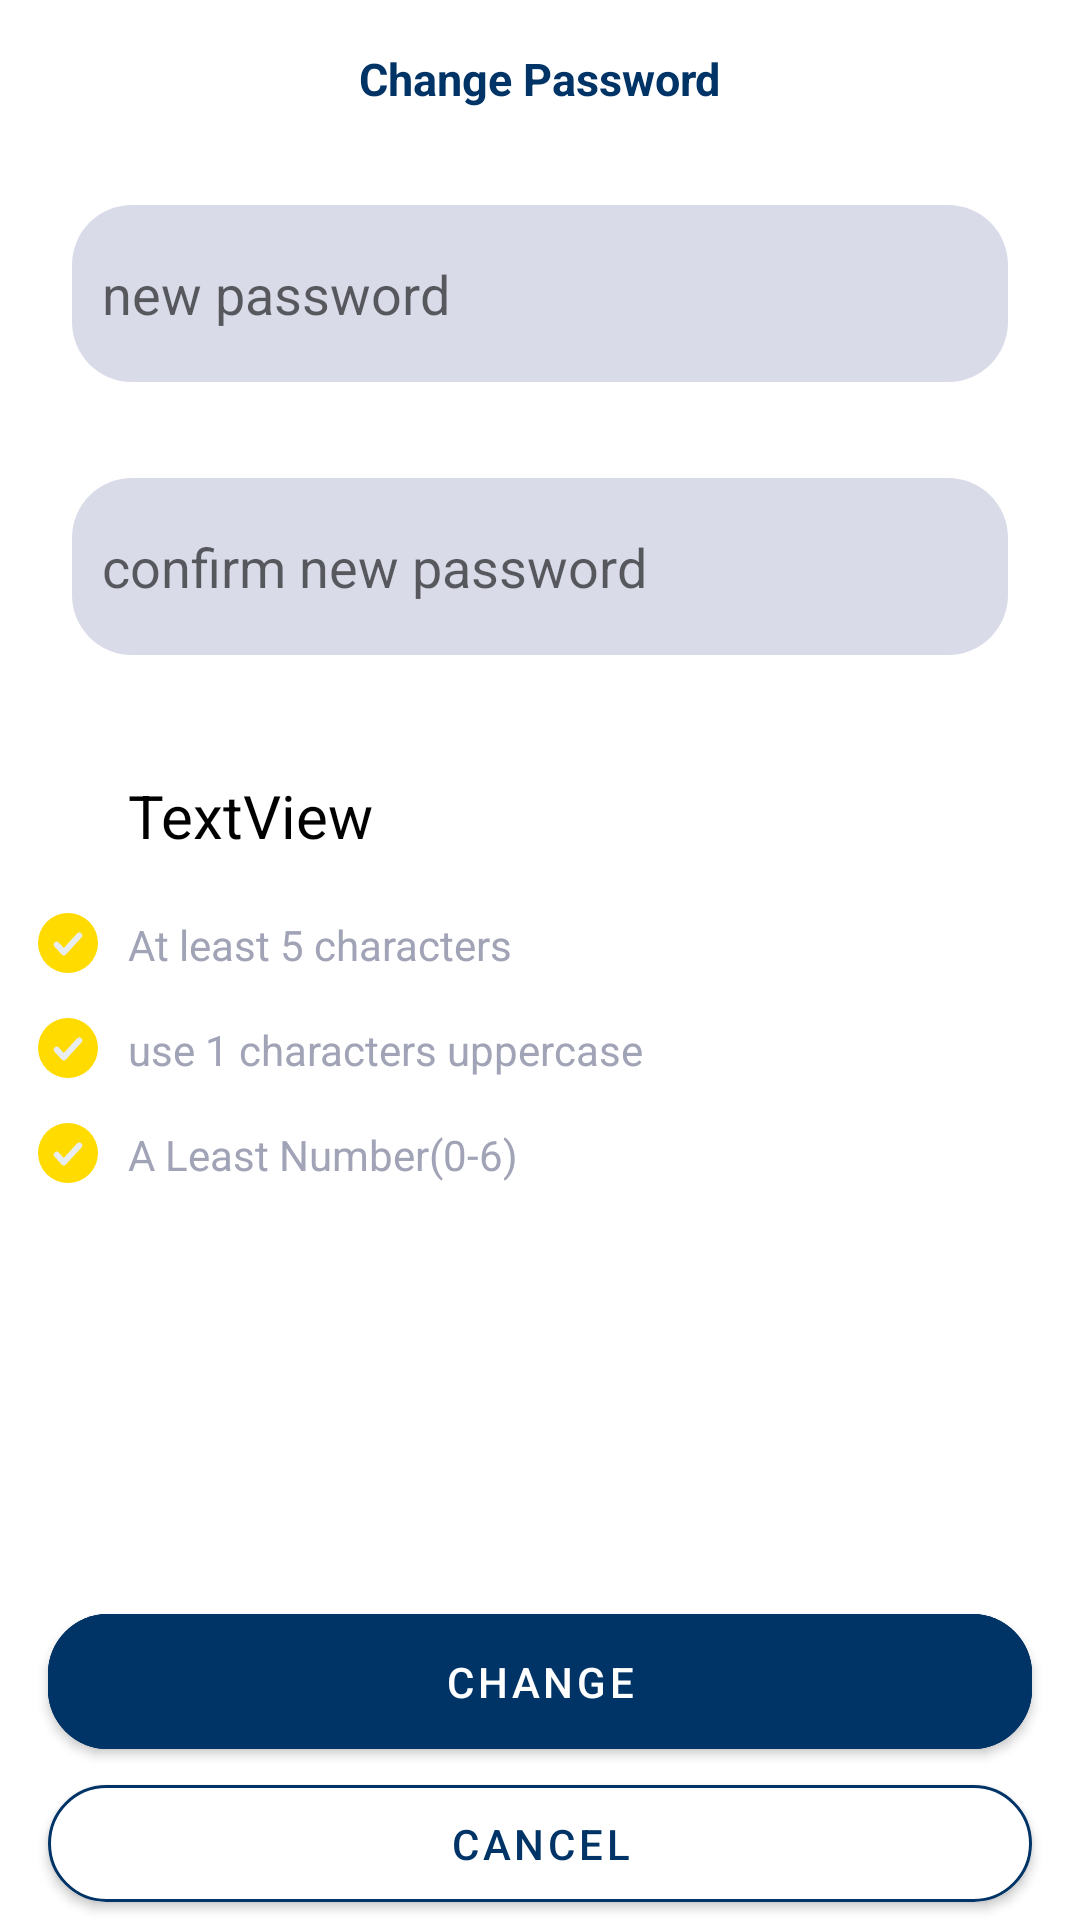

Point at icon controls on the screen. Image size 1080px x 1920px, points as [x,y].
checkbox: [68,943], [68,1048], [68,1153]
